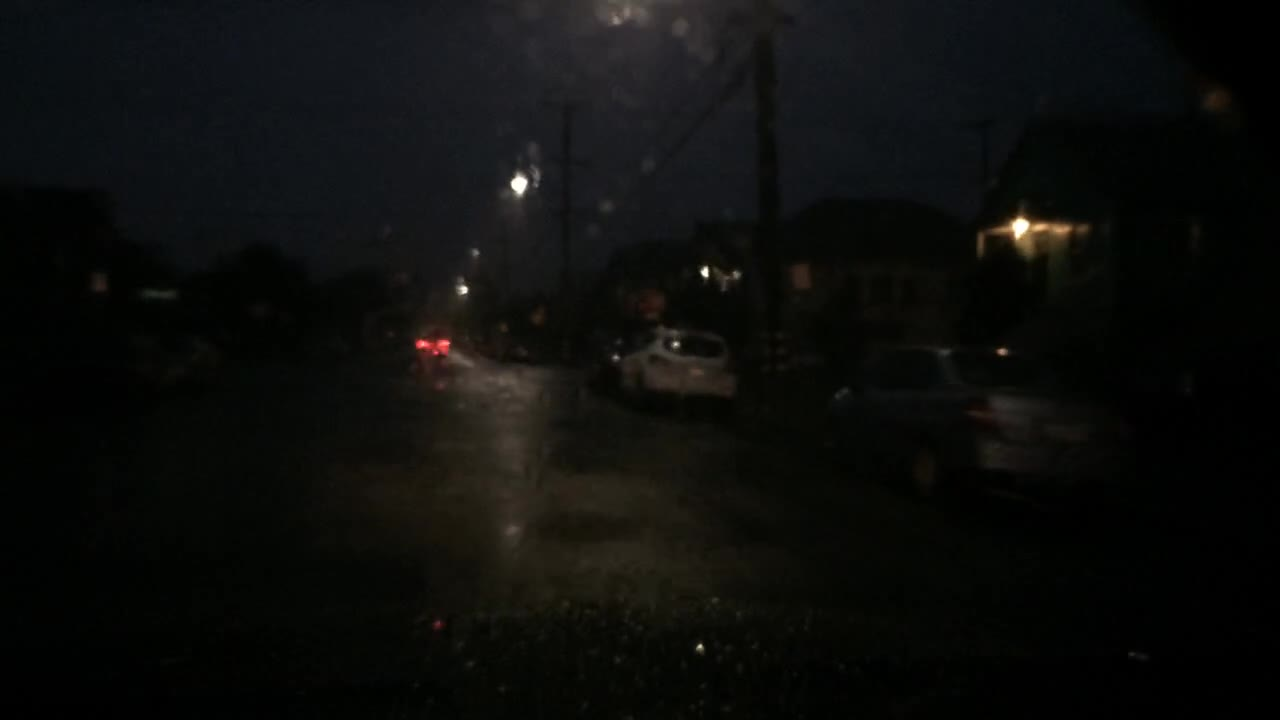car: (827, 337, 1130, 501), (617, 327, 739, 408), (128, 326, 221, 391), (585, 334, 631, 388), (492, 334, 536, 363), (413, 326, 449, 358)
traffic sign: (636, 282, 666, 320), (138, 282, 180, 302)
